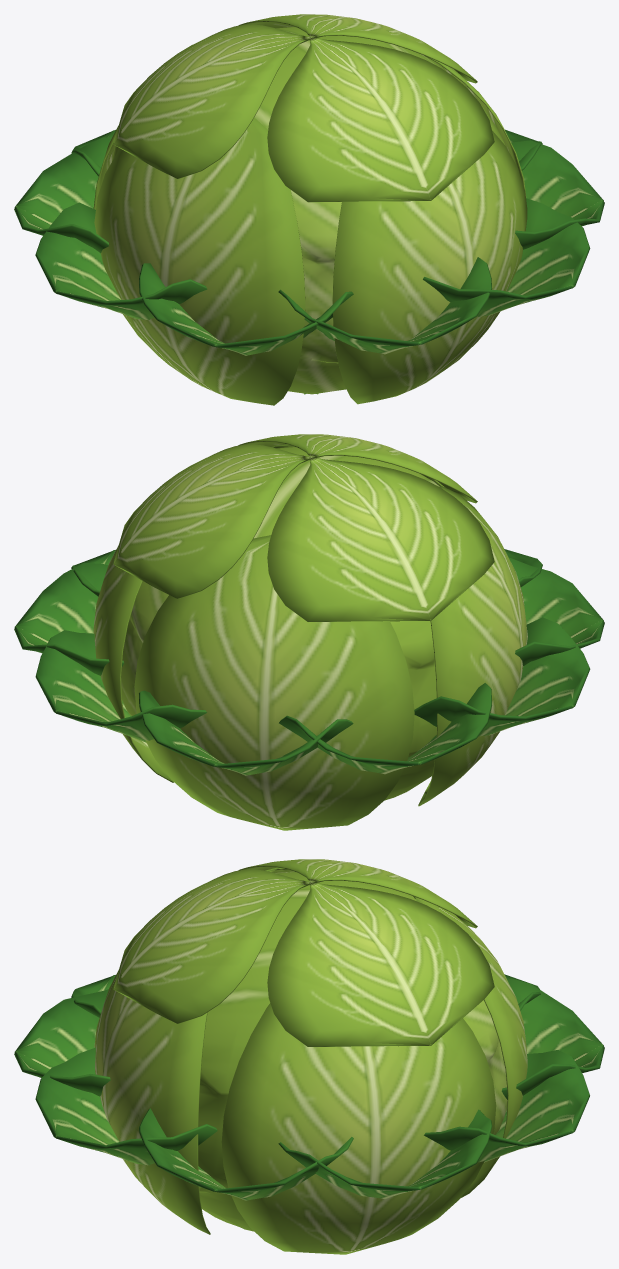
File: NP_Cabbage_Ready.fbx
3 views of the same model, one above another, from view 1: azimuth 30°, elevation 25°; view 2: azimuth 150°, elevation 25°; view 3: azimuth 270°, elevation 25° (orthographic).
Parts seen in each view (by area): view 1: NP_Cabbage_Ready; view 2: NP_Cabbage_Ready; view 3: NP_Cabbage_Ready.
Boxes of the visible parts, x1,y1,x2,y2 form: NP_Cabbage_Ready: (14, 14, 604, 405); NP_Cabbage_Ready: (14, 434, 604, 830); NP_Cabbage_Ready: (14, 859, 604, 1254).
Size of the model in its own units: 80.23 by 52.59 by 80.66.
